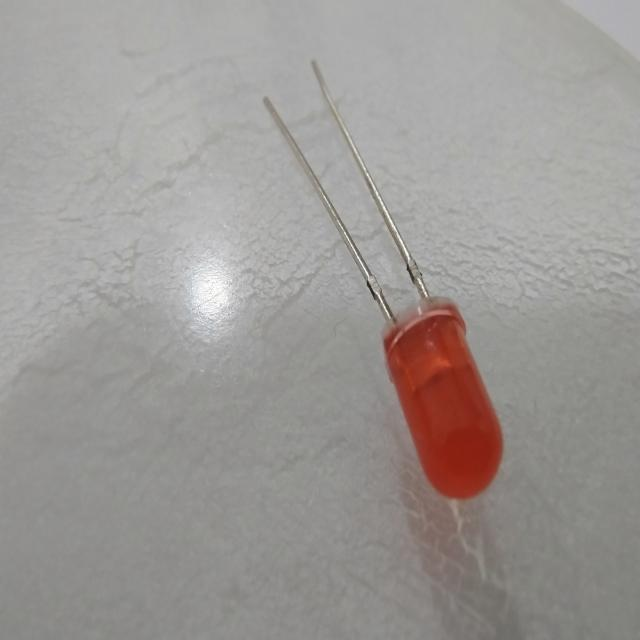red_led: (360, 277, 529, 523)
